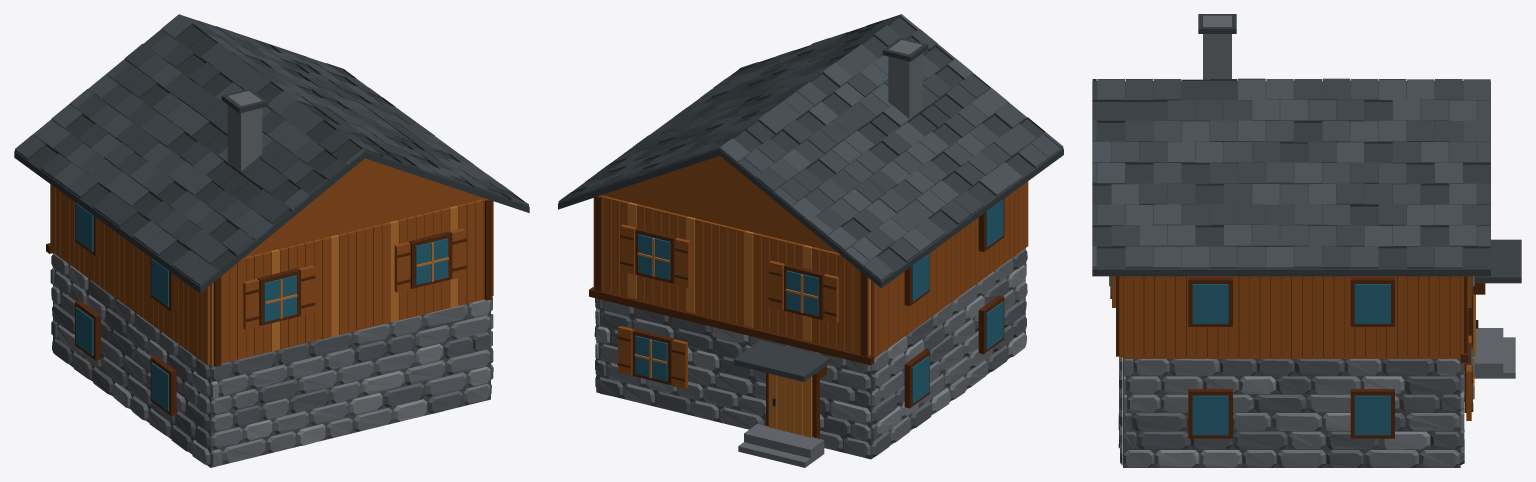
File: Baita_Nuova_Miele.obj
The picture shows the model from 3 angles, left to right: view 1: azimuth 30°, elevation 25°; view 2: azimuth 150°, elevation 25°; view 3: azimuth 270°, elevation 25°; orthographic projection. The views are drawn at different scales.
Parts seen in each view (by area): view 1: Lastre_Pietra, Tavole_Verticali, Pietre_Facciata_2, Pietre_Facciata_3, Frontoni_Legno, Nucleo_Piano_Terra, Tetto_Base, Persiane, Vetro_Laterale, Vetro, Camino, Cornice_Laterale (+2 smaller); view 2: Lastre_Pietra, Tavole_Verticali, Pietre_Facciata_1, Pietre_Facciata_3, Frontoni_Legno, Persiane, Tetto_Base, Vetro, Nucleo_Piano_Terra, Trave_Interpiano, Vetro_Laterale, Tavole_Porta (+9 smaller); view 3: Lastre_Pietra, Pietre_Facciata_4, Tavole_Verticali, Tetto_Base, Vetro_Laterale, Nucleo_Piano_Terra, Cornice_Laterale, Piano_Superiore, Gradini, Camino, Pensilina_Ingresso, Persiane (+3 smaller).
Boxes of the visible parts, left/top/right/bottom form: Lastre_Pietra: left=15, top=14, right=528, bottom=286; Tavole_Verticali: left=50, top=184, right=493, bottom=365; Pietre_Facciata_2: left=211, top=299, right=491, bottom=466; Pietre_Facciata_3: left=50, top=253, right=210, bottom=465; Frontoni_Legno: left=244, top=158, right=484, bottom=257; Nucleo_Piano_Terra: left=53, top=252, right=490, bottom=467; Tetto_Base: left=14, top=151, right=529, bottom=293; Persiane: left=243, top=228, right=465, bottom=329; Vetro_Laterale: left=75, top=203, right=168, bottom=411; Vetro: left=264, top=238, right=448, bottom=321; Camino: left=227, top=91, right=262, bottom=170; Cornice_Laterale: left=75, top=202, right=176, bottom=415; Lastre_Pietra: left=558, top=14, right=1063, bottom=281; Tavole_Verticali: left=593, top=181, right=1028, bottom=358; Pietre_Facciata_1: left=595, top=298, right=870, bottom=458; Pietre_Facciata_3: left=871, top=249, right=1027, bottom=457; Frontoni_Legno: left=602, top=156, right=837, bottom=252; Persiane: left=618, top=224, right=838, bottom=388; Tetto_Base: left=558, top=148, right=1063, bottom=288; Vetro: left=635, top=234, right=818, bottom=381; Nucleo_Piano_Terra: left=596, top=248, right=1025, bottom=459; Trave_Interpiano: left=589, top=287, right=874, bottom=365; Vetro_Laterale: left=912, top=199, right=1003, bottom=403; Tavole_Porta: left=768, top=373, right=812, bottom=437; Lastre_Pietra: left=1092, top=78, right=1490, bottom=268; Pietre_Facciata_4: left=1123, top=358, right=1460, bottom=467; Tavole_Verticali: left=1119, top=276, right=1463, bottom=358; Tetto_Base: left=1092, top=81, right=1490, bottom=276; Vetro_Laterale: left=1192, top=284, right=1390, bottom=435; Nucleo_Piano_Terra: left=1123, top=357, right=1460, bottom=467; Cornice_Laterale: left=1188, top=277, right=1394, bottom=438; Piano_Superiore: left=1123, top=276, right=1460, bottom=357; Gradini: left=1474, top=328, right=1515, bottom=378; Camino: left=1203, top=15, right=1231, bottom=80; Pensilina_Ingresso: left=1474, top=239, right=1521, bottom=283; Persiane: left=1112, top=276, right=1471, bottom=420.
Bounding box in the file's own units: 8.7 × 8.02 × 9.15.
